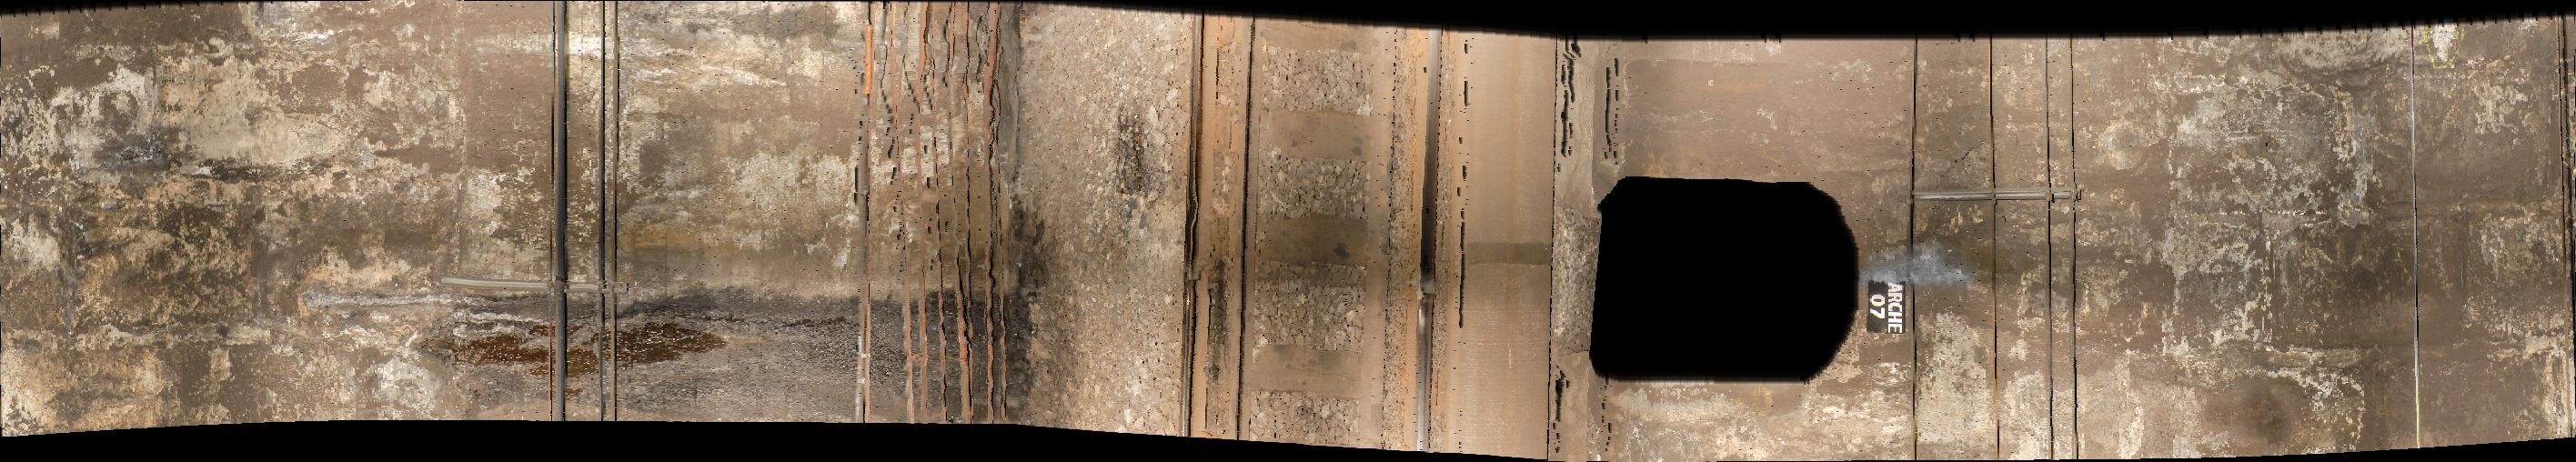pipes: (859, 10, 1019, 426), (1983, 43, 2083, 462), (549, 2, 626, 431), (2400, 33, 2430, 462)
sign: (1868, 280, 1907, 344)
tracks: (1193, 20, 1469, 462)
